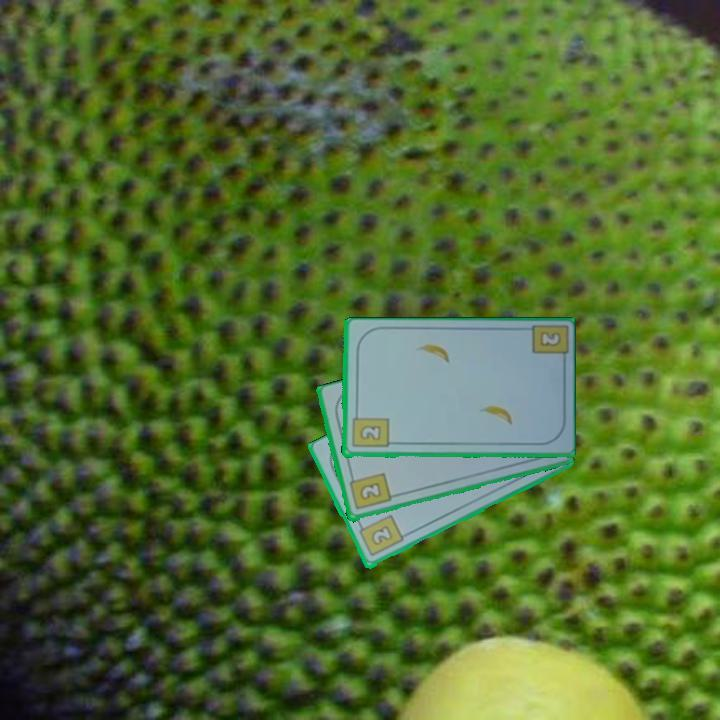2b: (355, 512, 406, 560), (345, 470, 393, 513), (349, 408, 390, 451), (536, 328, 564, 349)
